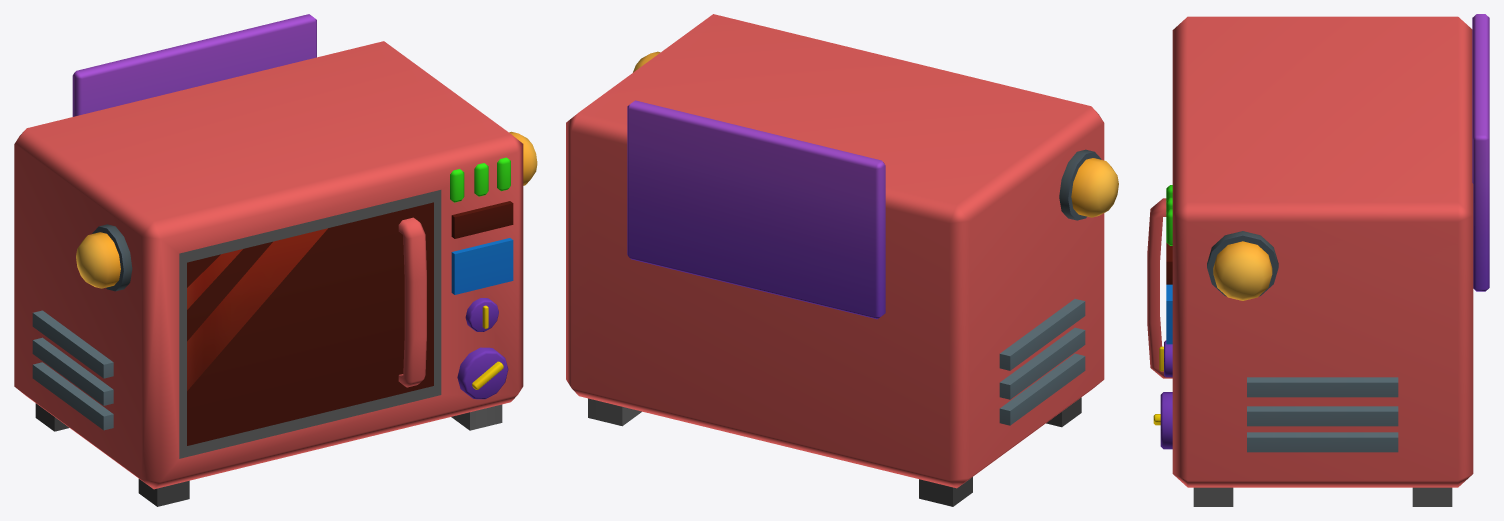
Rendered from Decor_Lovisong.fbx.
3 views of the same model, side by side, from view 1: azimuth 30°, elevation 25°; view 2: azimuth 150°, elevation 25°; view 3: azimuth 270°, elevation 25° (orthographic). The views are drawn at different scales.
Visible parts, largest first — view 1: Decor_Lovisong; view 2: Decor_Lovisong; view 3: Decor_Lovisong.
Part boxes in pixels (box(x1,y1,x2,y2)): Decor_Lovisong: box(14, 14, 537, 506); Decor_Lovisong: box(566, 14, 1118, 506); Decor_Lovisong: box(1147, 14, 1489, 506).
Bounding box in the file's own units: 138 × 94.13 × 85.24.
